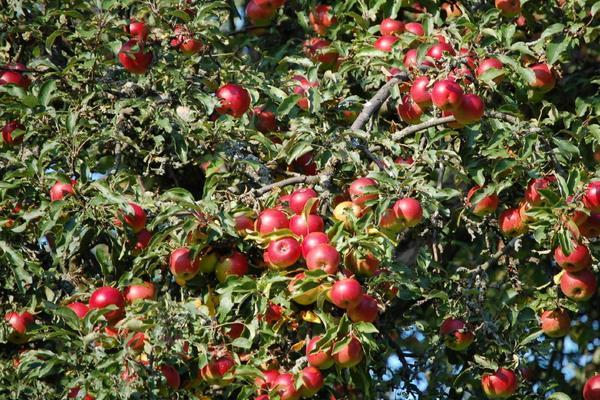apple: (379, 196, 421, 225), (558, 270, 595, 300), (90, 287, 123, 319), (480, 367, 515, 397), (306, 333, 334, 367), (345, 294, 379, 322), (217, 85, 248, 115), (555, 237, 586, 267), (267, 236, 298, 266), (455, 95, 486, 125), (256, 206, 287, 236), (289, 185, 320, 215), (125, 281, 158, 309), (539, 307, 569, 337), (171, 249, 202, 278), (306, 244, 337, 273), (328, 278, 359, 307), (429, 79, 461, 107), (269, 372, 301, 400), (244, 1, 284, 23), (336, 337, 365, 365), (347, 177, 378, 203), (467, 189, 497, 215), (396, 95, 423, 123), (526, 62, 553, 90), (292, 212, 321, 238), (48, 177, 77, 201), (4, 310, 33, 333), (498, 207, 523, 233), (1, 68, 31, 89), (372, 34, 398, 51), (493, 1, 520, 17)
